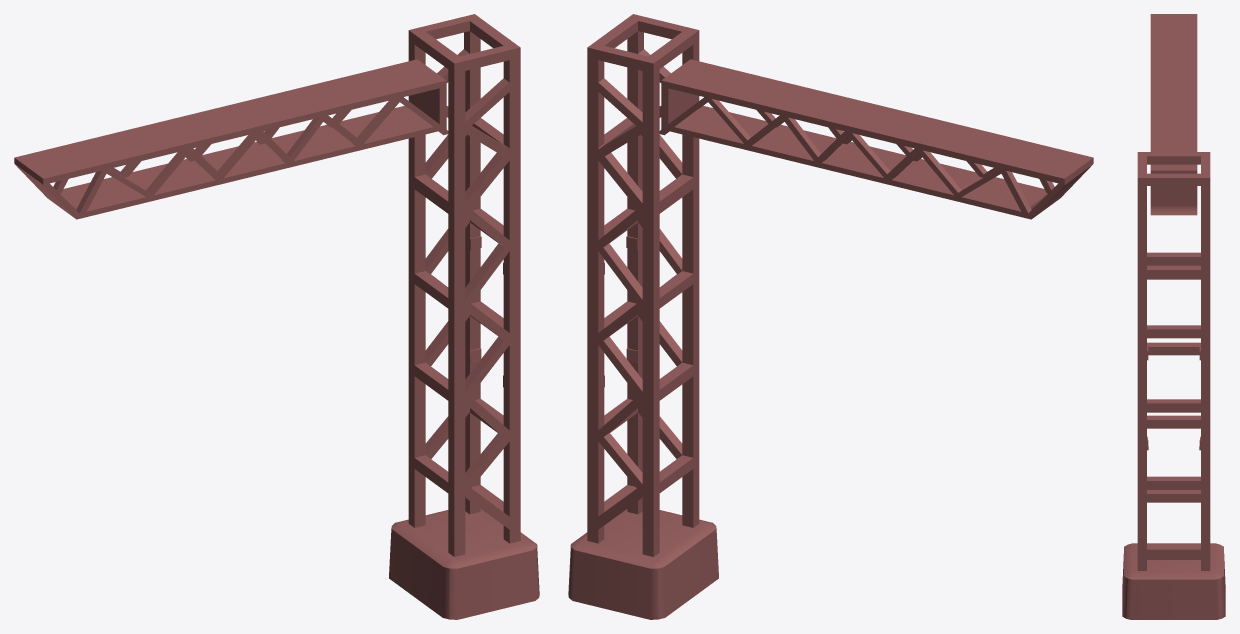
File: crane_high.fbx
3 renders of one model, left to right at view 1: azimuth 30°, elevation 25°; view 2: azimuth 150°, elevation 25°; view 3: azimuth 270°, elevation 25°, orthographic. The views are drawn at different scales.
Parts seen in each view (by area): view 1: pCube2, pCube1, pCube3; view 2: pCube2, pCube1, pCube3; view 3: pCube2, pCube1, pCube3.
Boxes of the visible parts, left/top/right/bottom form: pCube2: left=408, top=14, right=520, bottom=556; pCube1: left=14, top=59, right=448, bottom=219; pCube3: left=389, top=509, right=539, bottom=619; pCube2: left=587, top=14, right=699, bottom=556; pCube1: left=659, top=59, right=1093, bottom=219; pCube3: left=568, top=509, right=718, bottom=619; pCube2: left=1137, top=152, right=1210, bottom=570; pCube1: left=1150, top=14, right=1197, bottom=215; pCube3: left=1122, top=543, right=1225, bottom=619.
Bounding box in the file's own units: 0.4351 × 0.4708 × 0.1008.
